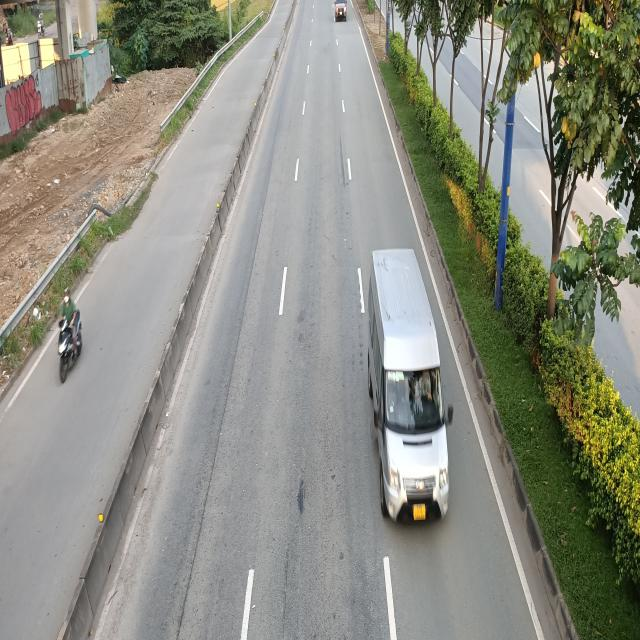van: (368, 250, 458, 530)
